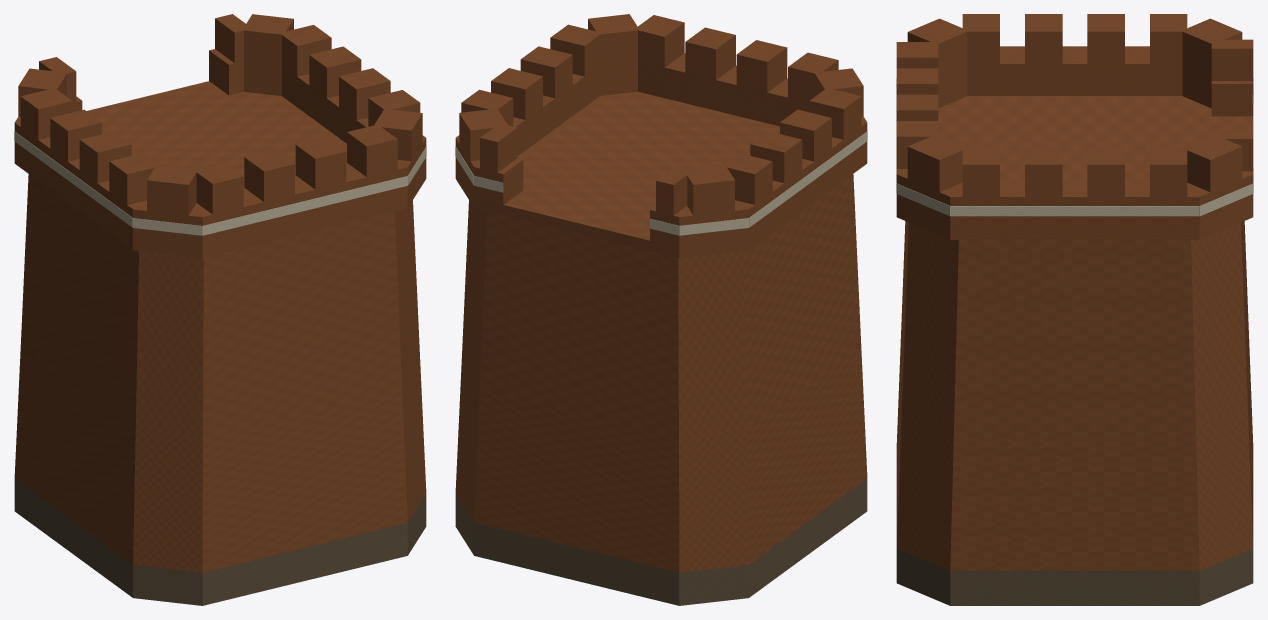
Rendered from Berber_Bastion_Age2_end.fbx.
3 views of the same model, side by side, from view 1: azimuth 30°, elevation 25°; view 2: azimuth 150°, elevation 25°; view 3: azimuth 270°, elevation 25° (orthographic). The views are drawn at different scales.
Parts seen in each view (by area): view 1: end_battered_upper, end_battered_lower, end_continuous_walk_floor, end_stone_foot, end_guard_0_0, end_guard_6_0, end_guard_2_0, end_merlon_7_0_0, end_merlon_0_0_2, end_merlon_0_0_3, end_merlon_0_0_1, end_owner_band_0_0 (+19 smaller); view 2: end_battered_upper, end_battered_lower, end_continuous_walk_floor, end_stone_foot, end_guard_0_0, end_guard_6_0, end_guard_2_0, end_merlon_0_0_1, end_merlon_5_0_0, end_merlon_0_0_2, end_merlon_0_0_3, end_merlon_1_0_0 (+19 smaller); view 3: end_battered_upper, end_battered_lower, end_continuous_walk_floor, end_stone_foot, end_guard_6_0, end_guard_2_0, end_owner_band_2_0, end_merlon_1_0_0, end_merlon_3_0_0, end_merlon_7_0_0, end_merlon_2_0_1, end_merlon_2_0_2 (+20 smaller).
Boxes of the visible parts, left/top/right/bottom form: end_battered_upper: left=21, top=174, right=420, bottom=436; end_battered_lower: left=14, top=345, right=426, bottom=572; end_continuous_walk_floor: left=14, top=81, right=426, bottom=257; end_stone_foot: left=14, top=478, right=426, bottom=605; end_guard_0_0: left=192, top=160, right=407, bottom=247; end_guard_6_0: left=14, top=121, right=146, bottom=239; end_guard_2_0: left=282, top=66, right=425, bottom=143; end_merlon_7_0_0: left=147, top=164, right=197, bottom=215; end_merlon_0_0_2: left=295, top=137, right=346, bottom=189; end_merlon_0_0_3: left=347, top=124, right=397, bottom=176; end_merlon_0_0_1: left=244, top=149, right=294, bottom=201; end_owner_band_0_0: left=202, top=176, right=407, bottom=235; end_battered_upper: left=461, top=174, right=861, bottom=436; end_battered_lower: left=455, top=345, right=867, bottom=572; end_continuous_walk_floor: left=455, top=91, right=867, bottom=257; end_stone_foot: left=455, top=478, right=867, bottom=605; end_guard_0_0: left=638, top=53, right=809, bottom=126; end_guard_6_0: left=735, top=121, right=867, bottom=239; end_guard_2_0: left=456, top=65, right=599, bottom=156; end_merlon_0_0_1: left=736, top=40, right=787, bottom=92; end_merlon_5_0_0: left=685, top=164, right=734, bottom=215; end_merlon_0_0_2: left=685, top=27, right=735, bottom=79; end_merlon_0_0_3: left=634, top=15, right=684, bottom=67; end_merlon_1_0_0: left=588, top=14, right=638, bottom=65; end_battered_upper: left=902, top=221, right=1247, bottom=428; end_battered_lower: left=896, top=313, right=1253, bottom=570; end_continuous_walk_floor: left=896, top=96, right=1253, bottom=239; end_stone_foot: left=896, top=548, right=1253, bottom=605; end_guard_6_0: left=967, top=46, right=1182, bottom=95; end_guard_2_0: left=950, top=179, right=1199, bottom=229; end_owner_band_2_0: left=950, top=206, right=1199, bottom=216; end_merlon_1_0_0: left=907, top=135, right=968, bottom=192; end_merlon_3_0_0: left=1183, top=134, right=1242, bottom=192; end_merlon_7_0_0: left=907, top=18, right=967, bottom=75; end_merlon_2_0_1: left=1025, top=147, right=1062, bottom=196; end_merlon_2_0_2: left=1087, top=147, right=1124, bottom=196.
Size of the model in its own units: 601 by 820 by 601.
Materials: 3 (3 with a texture image).
